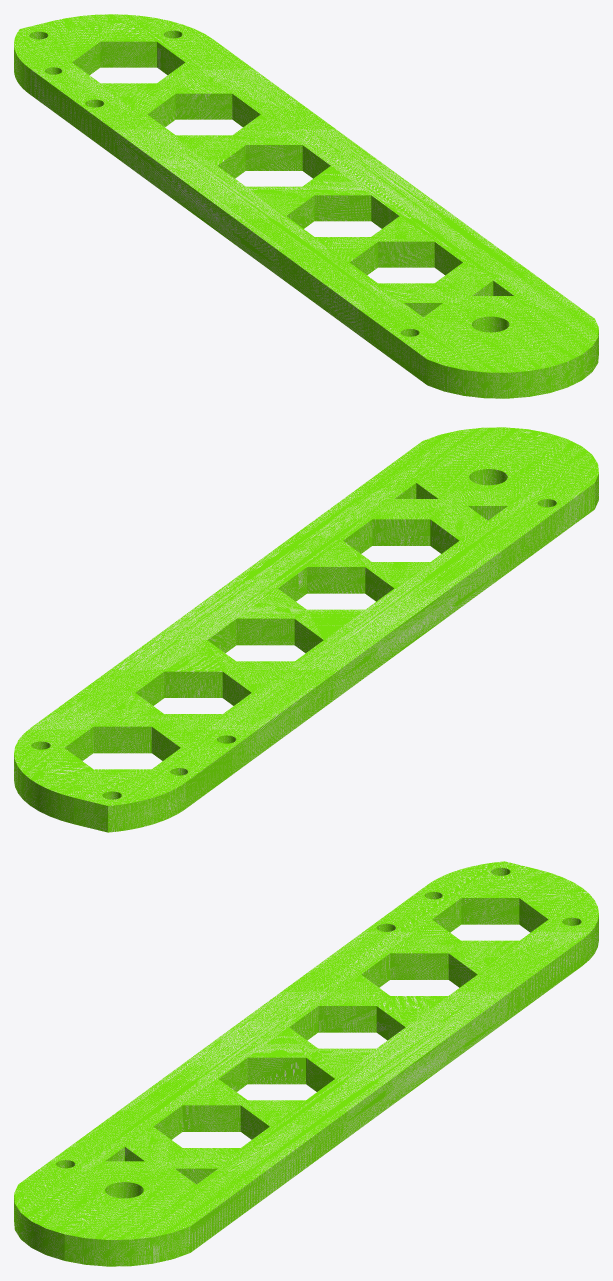
The model's file is original-7.obj.
3 renders of one model, top to bottom at view 1: azimuth 30°, elevation 25°; view 2: azimuth 150°, elevation 25°; view 3: azimuth 330°, elevation 25°, orthographic. The views are drawn at different scales.
Parts seen in each view (by area): view 1: Group7/mesh19/mesh19-geometry#mesh19-geometry; view 2: Group7/mesh19/mesh19-geometry#mesh19-geometry; view 3: Group7/mesh19/mesh19-geometry#mesh19-geometry.
Boxes of the visible parts, x1=… form: Group7/mesh19/mesh19-geometry#mesh19-geometry: x1=14, y1=14, x2=598, y2=398; Group7/mesh19/mesh19-geometry#mesh19-geometry: x1=14, y1=427, x2=598, y2=832; Group7/mesh19/mesh19-geometry#mesh19-geometry: x1=14, y1=861, x2=598, y2=1266.
Bounding box in the file's own units: 0.389 × 0.0574 × 1.93.
